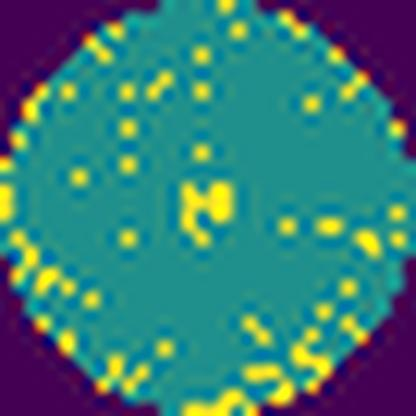Center: (176, 176, 246, 256)
